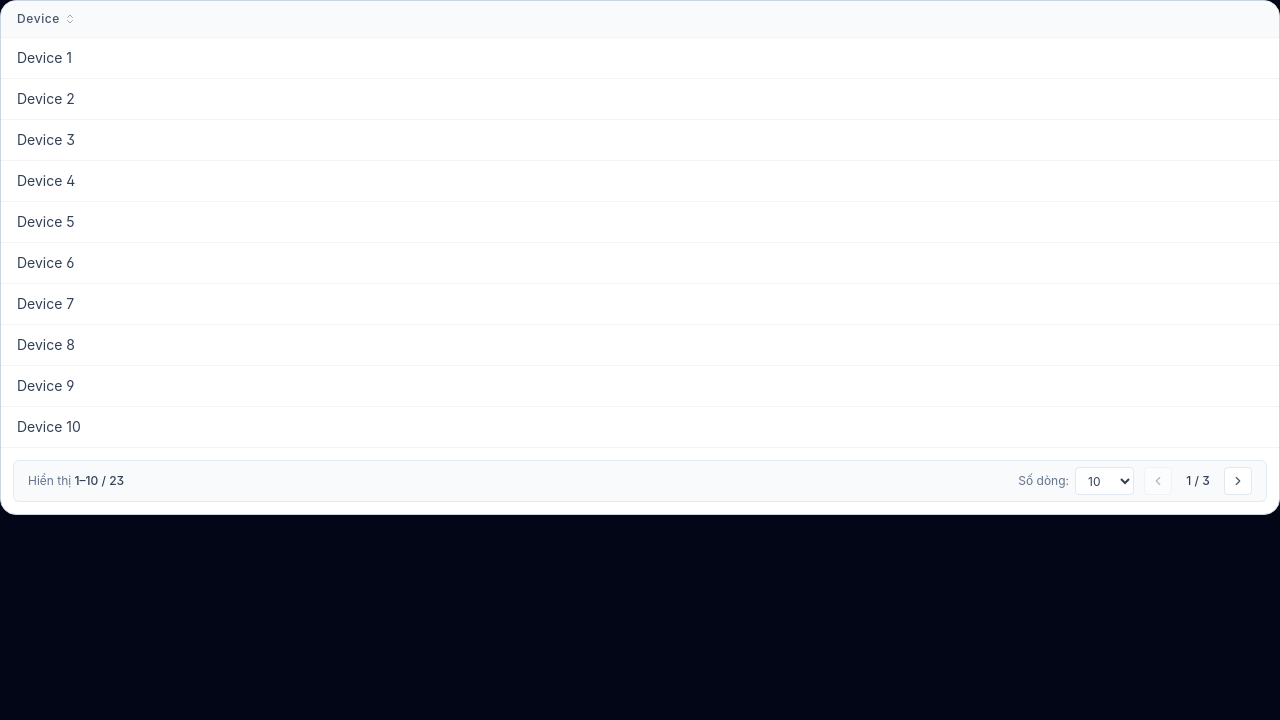
DataTable › sorts through ascending/descending/unsorted states and resets pagination
Click the button named "Trang sau".
click(1238, 481)  # box [1224,467,1252,495]
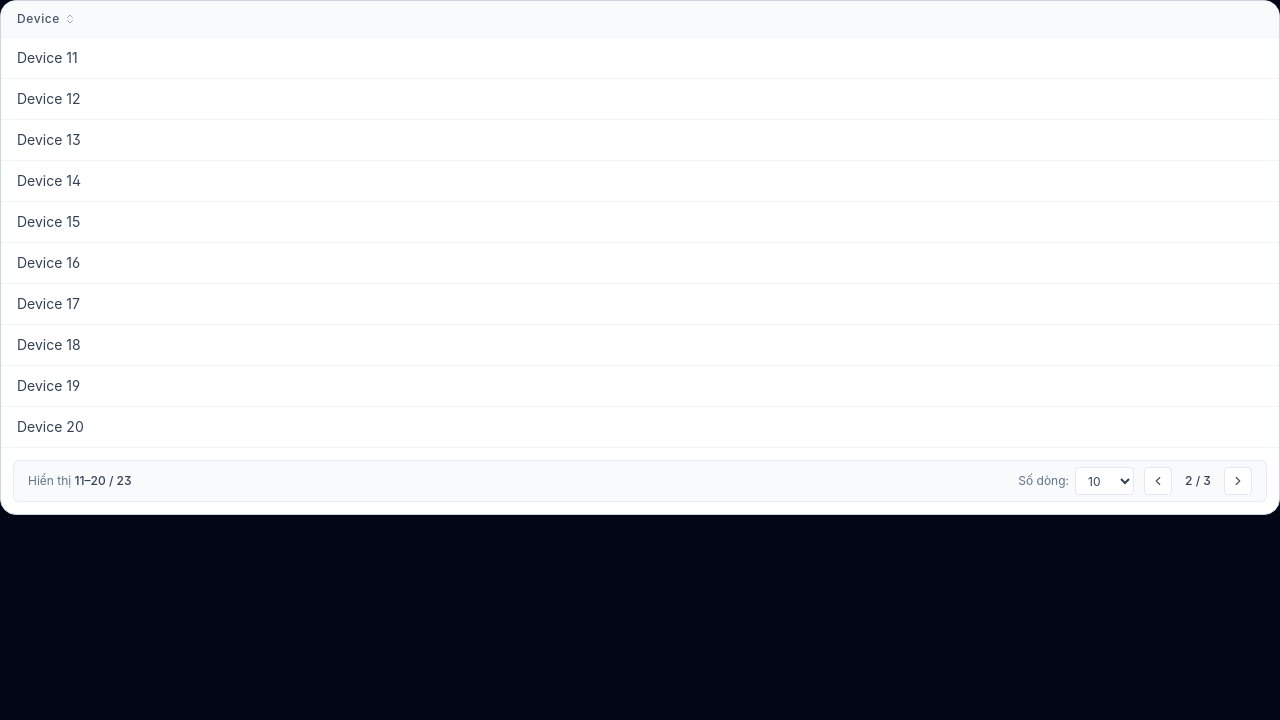
Click the button "Device".
click(46, 19)  # box [17,11,76,27]
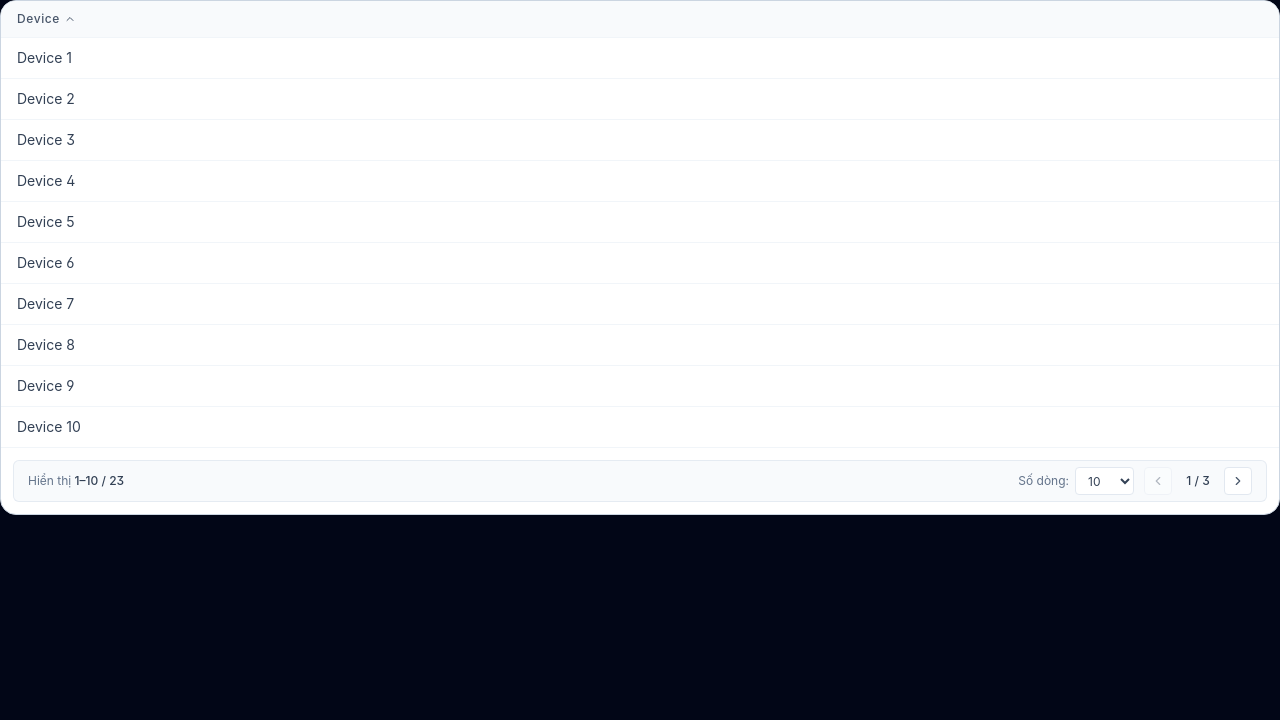
Expected: the cell "Device 1" is shown, [1,38,1279,78]
Click the button "Device".
click(46, 19)  # box [17,11,76,27]
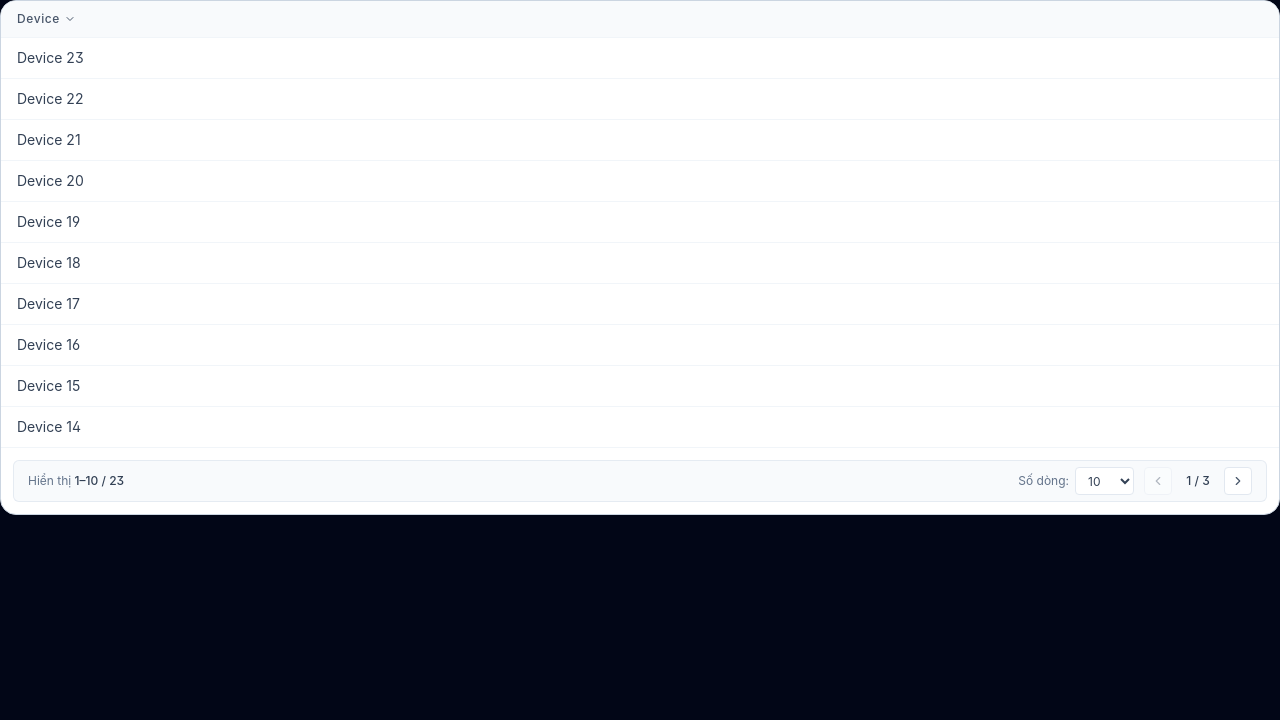
Result: the cell "Device 23" is shown at [1,38,1279,78]
Click the button "Device".
click(46, 19)  # box [17,11,76,27]
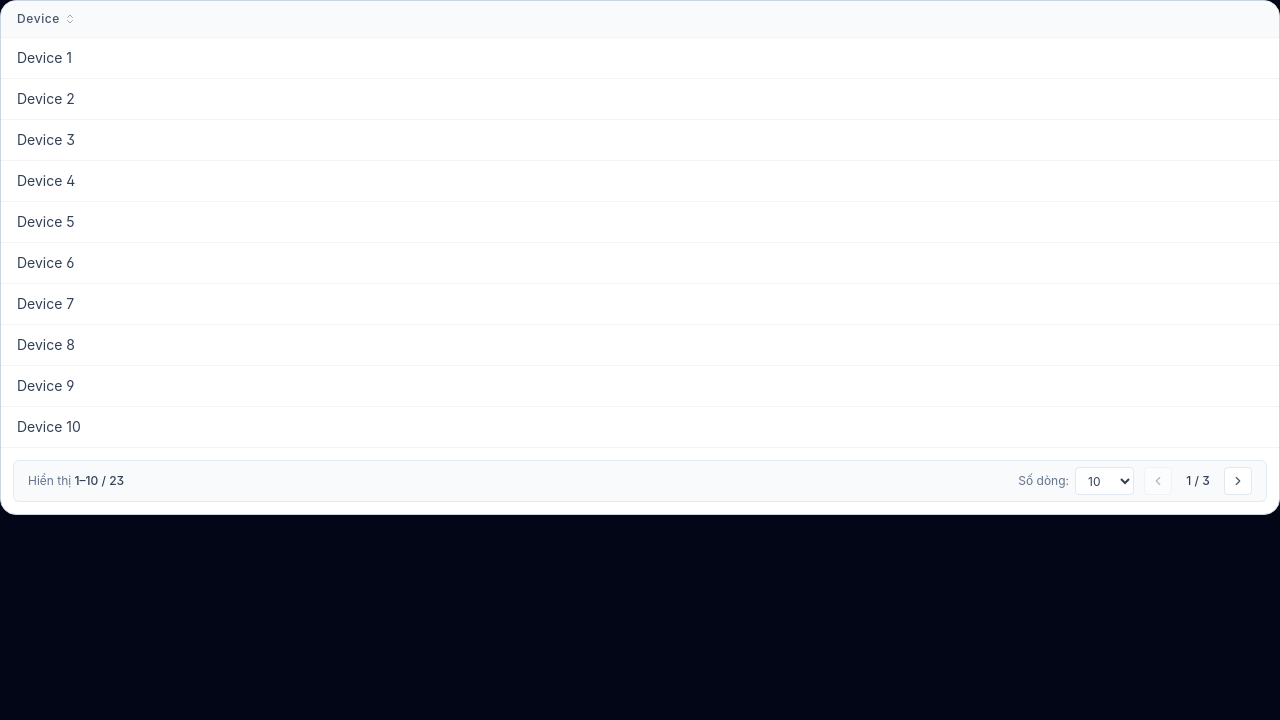
Result: the cell "Device 1" is shown at [1,38,1279,78]
